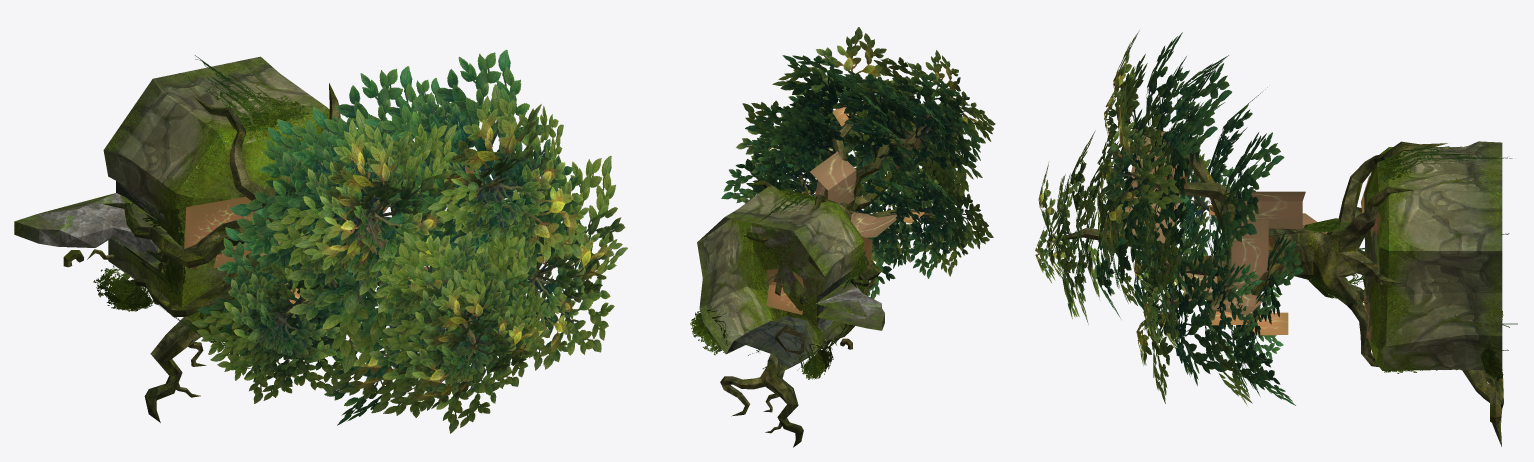
File: jingling_02_tree_05_02.obj
3 renders of one model, left to right at view 1: azimuth 30°, elevation 25°; view 2: azimuth 150°, elevation 25°; view 3: azimuth 270°, elevation 25°, orthographic. The views are drawn at different scales.
Parts seen in each view (by area): view 1: jingling_02_tree_05; view 2: jingling_02_tree_05; view 3: jingling_02_tree_05.
Part boxes in pixels (left/top/right/bottom): jingling_02_tree_05: left=14, top=49, right=627, bottom=433; jingling_02_tree_05: left=690, top=27, right=995, bottom=447; jingling_02_tree_05: left=1035, top=30, right=1517, bottom=446.
Size of the model in its own units: 1325 by 1367 by 1434.
11 materials, 11 textured.
